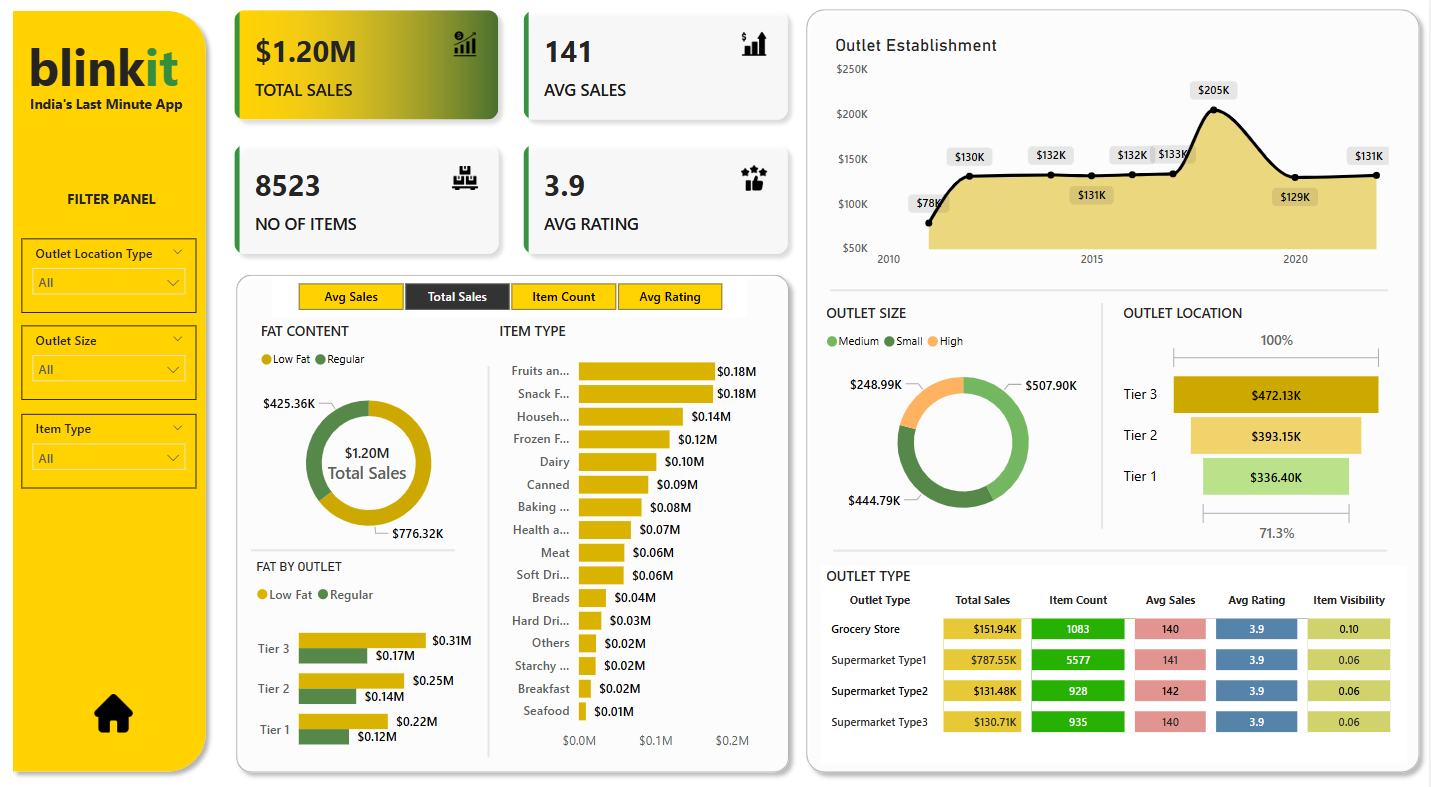

What the dashboard file says about the page in this screenshot:
{"tool":"powerbi","page":{"name":"Main","canvas":[1400,800],"ordinal":0},"visuals":[{"type":"shape","box":[18.3,13.3,205,755],"z":0},{"type":"textbox","box":[38.3,38.3,169.4,81.5],"z":1000},{"type":"textbox","box":[28.3,96.7,178.3,33.3],"z":2000},{"type":"cardVisual","fields":{"Data":["_Measures.Total Sales","_Measures.Avg Sales","_Measures.Item Count","_Measures.Avg Rating"]},"box":[225,5,570,270],"z":3000},{"type":"shape","box":[235,268.3,553.3,500],"z":4000},{"type":"donutChart","title":"FAT CONTENT","fields":{"Y":["_Measures.Total Sales"],"Category":["Blinkit Grocery Data.Item Fat Content"]},"box":[263.7,322.8,218.9,230.1],"z":5000},{"type":"slicer","fields":{"Values":["Metrics.Metrics"]},"box":[279.6,279.6,460.2,39.9],"z":6000},{"type":"cardVisual","fields":{"Data":["_Measures.Total Sales"]},"box":[297.8,421.3,146.7,78.5],"z":7000},{"type":"clusteredBarChart","title":"FAT BY OUTLET","fields":{"Y":["_Measures.Total Sales"],"Category":["Blinkit Grocery Data.Outlet Location Type"],"Series":["Blinkit Grocery Data.Item Fat Content"]},"box":[258.9,552.9,218.9,201.3],"z":8000},{"type":"shape","box":[258.9,530.5,198.1,28.8],"z":9000},{"type":"shape","box":[482.6,365.9,12.8,378.7],"z":10000},{"type":"barChart","title":"ITEM TYPE","fields":{"Y":["_Measures.Total Sales"],"Category":["Blinkit Grocery Data.Item Type"]},"box":[493.8,322.8,276.4,425],"z":11000},{"type":"shape","box":[787.8,11.2,612,757.4],"z":12000},{"type":"lineChart","title":"Outlet Establishment","fields":{"Category":["Blinkit Grocery Data.Outlet Establishment Year"],"Y":["_Measures.Total Sales"]},"box":[819.7,44.7,546.5,234.9],"z":13000},{"type":"shape","box":[819.7,284.4,540.1,16],"z":14000},{"type":"donutChart","title":"OUTLET SIZE","fields":{"Y":["_Measures.Total Sales"],"Category":["Blinkit Grocery Data.Outlet Size"]},"box":[810.1,305.2,274.8,225.3],"z":15000},{"type":"shape","box":[1077,305.2,12.8,218.9],"z":16000},{"type":"funnel","title":"OUTLET LOCATION","fields":{"Y":["_Measures.Total Sales"],"Category":["Blinkit Grocery Data.Outlet Location Type"]},"box":[1097.8,305.2,262.1,238.1],"z":17000},{"type":"shape","box":[822.9,535.3,536.9,20.8],"z":18000},{"type":"pivotTable","title":"OUTLET TYPE","fields":{"Rows":["Blinkit Grocery Data.Outlet Type"],"Values":["_Measures.Total Sales","_Measures.Item Count","_Measures.Avg Sales","_Measures.Avg Rating","Avg(Blinkit Grocery Data.Item Visibility)"]},"box":[810.1,559.3,567.3,191.7],"z":19000},{"type":"slicer","fields":{"Values":["Blinkit Grocery Data.Outlet Location Type"]},"box":[36.8,242.9,169.4,71.9],"z":20000},{"type":"slicer","fields":{"Values":["Blinkit Grocery Data.Outlet Size"]},"box":[36.8,327.6,169.4,71.9],"z":21000},{"type":"slicer","fields":{"Values":["Blinkit Grocery Data.Item Type"]},"box":[36.8,412.3,169.4,71.9],"z":22000},{"type":"textbox","box":[62.3,188.6,121.4,39.9],"z":23000},{"type":"image","box":[98.8,678.5,53.8,47.9],"z":24000}]}

Visuals, with their boxes on the page's 1400x800 design canvas (x1, y1, x2, y2). These are canvas units, not pixel positions in the 1431x787 screenshot, which may show the page scaled, cropped or inside an application window:
shape: [18,13,223,768]
textbox: [38,38,208,120]
textbox: [28,97,207,130]
cardVisual - _Measures.Total Sales x _Measures.Avg Sales: [225,5,795,275]
shape: [235,268,788,768]
"FAT CONTENT" donutChart: [264,323,483,553]
slicer - Metrics.Metrics: [280,280,740,320]
cardVisual - _Measures.Total Sales: [298,421,444,500]
"FAT BY OUTLET" clusteredBarChart: [259,553,478,754]
shape: [259,530,457,559]
shape: [483,366,495,745]
"ITEM TYPE" barChart: [494,323,770,748]
shape: [788,11,1400,769]
"Outlet Establishment" lineChart: [820,45,1366,280]
shape: [820,284,1360,300]
"OUTLET SIZE" donutChart: [810,305,1085,530]
shape: [1077,305,1090,524]
"OUTLET LOCATION" funnel: [1098,305,1360,543]
shape: [823,535,1360,556]
"OUTLET TYPE" pivotTable: [810,559,1377,751]
slicer - Blinkit Grocery Data.Outlet Location Type: [37,243,206,315]
slicer - Blinkit Grocery Data.Outlet Size: [37,328,206,400]
slicer - Blinkit Grocery Data.Item Type: [37,412,206,484]
textbox: [62,189,184,228]
image: [99,678,153,726]
